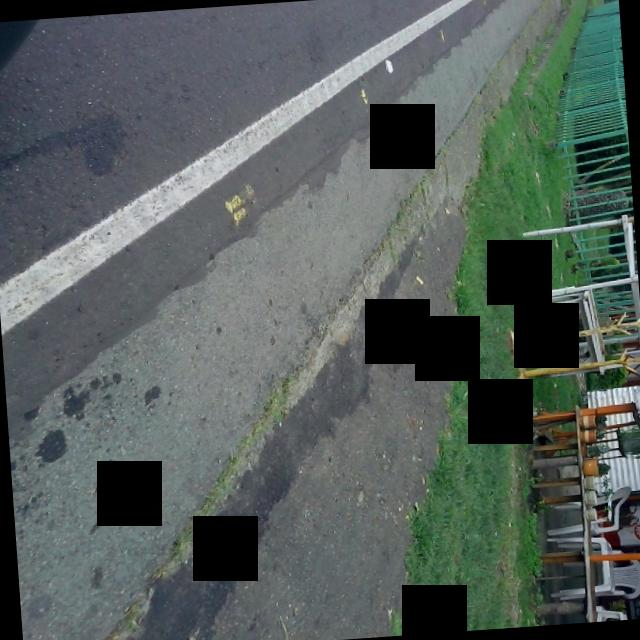DITCH: (0, 0, 624, 640), (0, 0, 621, 640), (0, 33, 618, 640)
